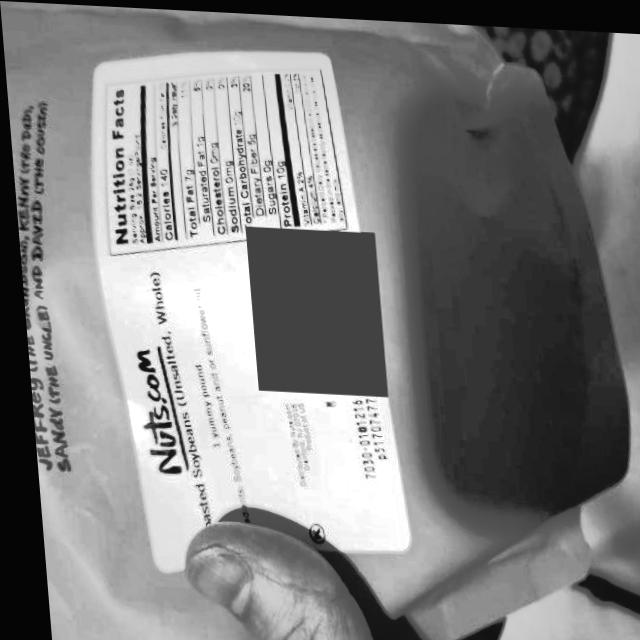qr_code: (242, 223, 381, 392)
